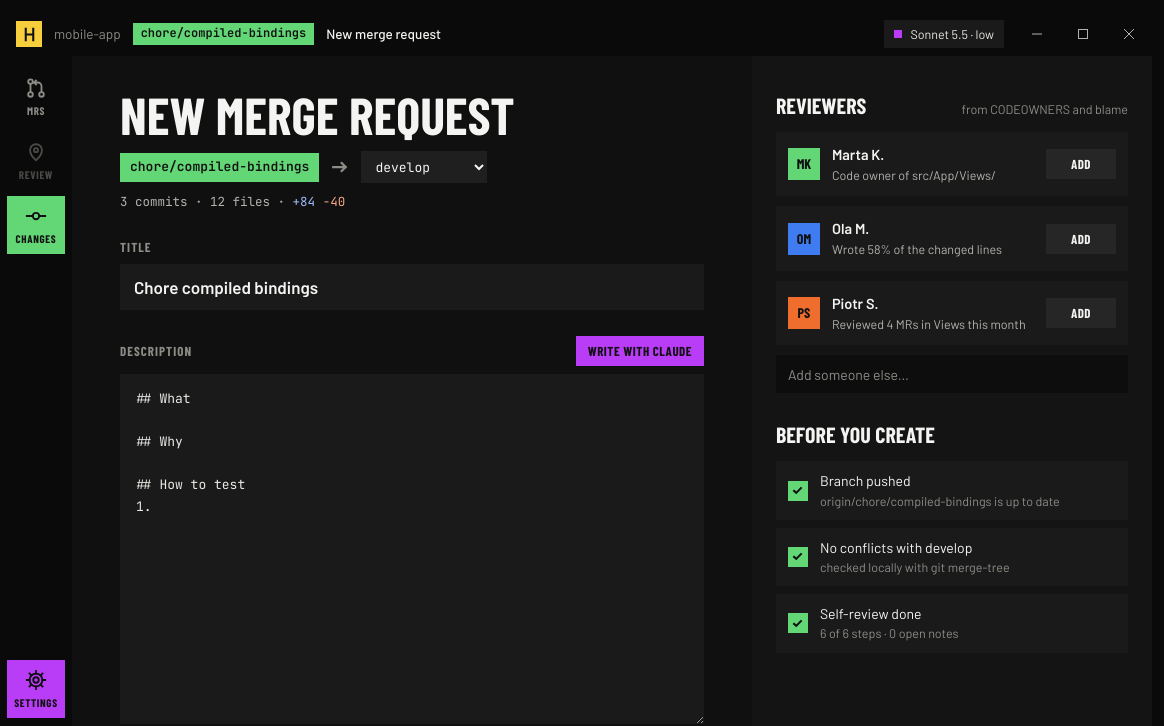
S-11 Before you create (F-27.5) › F-27.5 the default mock backend conflicts with main in the two files of CreateMR.dc.html
Select "main" in the dropdown named "Target branch" at (424, 167), box [361,151,487,183]
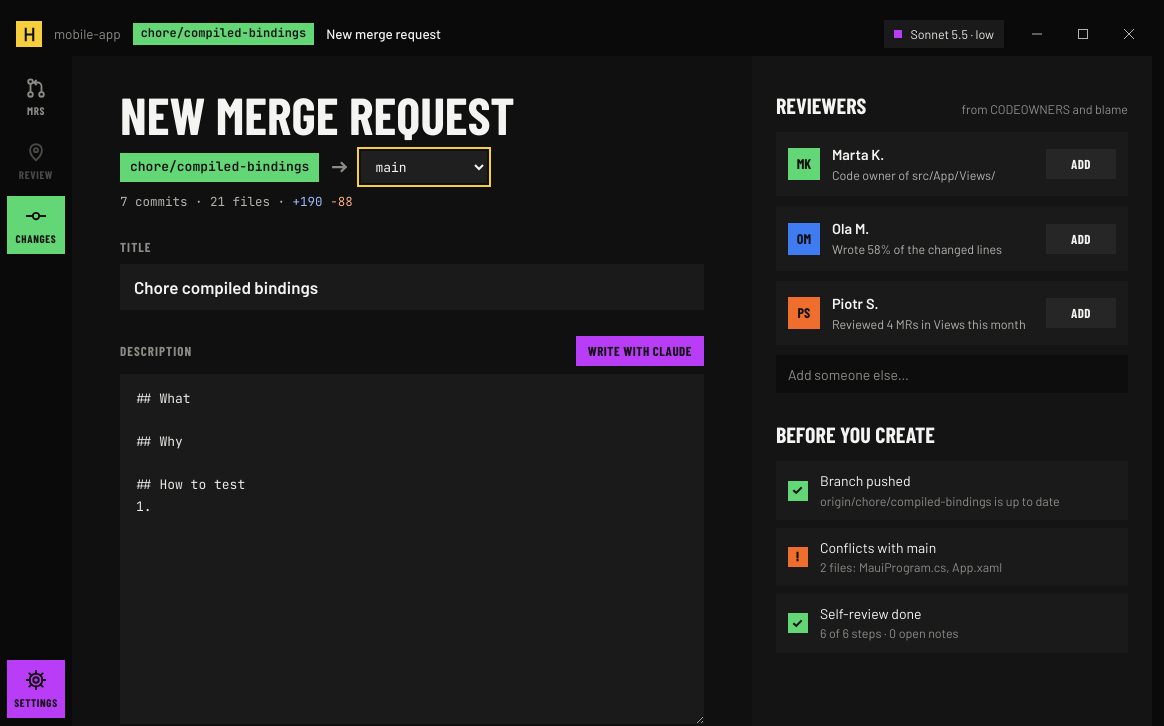
Check: the text "Conflicts with main" is shown, box [820,539,936,556]
Check: the text "2 files: MauiProgram.cs, App.xaml" is shown, box [820,559,1002,575]
